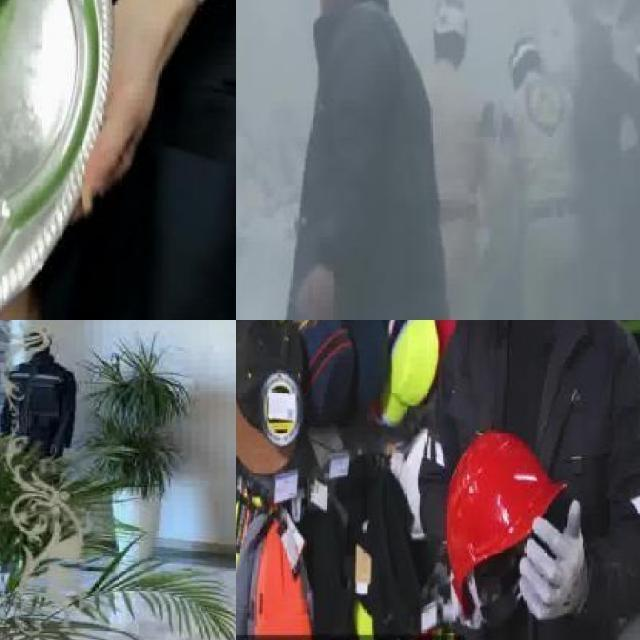apron: (517, 492, 590, 626)
